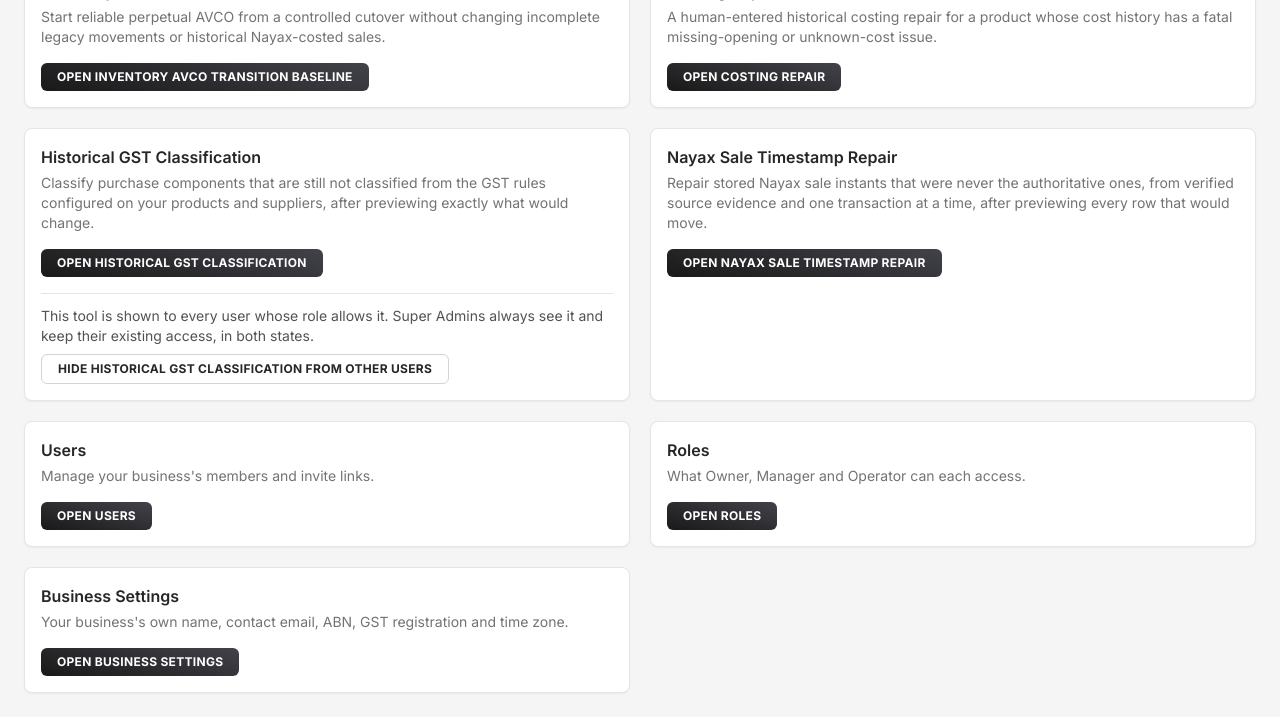
AdminComponent switchable option visibility (issue #873) › the saved answer and the re-read that publishes it › hands the shared answer back over once the re-read carries it
This screenshot has width=1280, height=717.
(page scrolled)
Click the button with id "historical-gst-classification-visibility" at (245, 369), box [41,354,449,384]
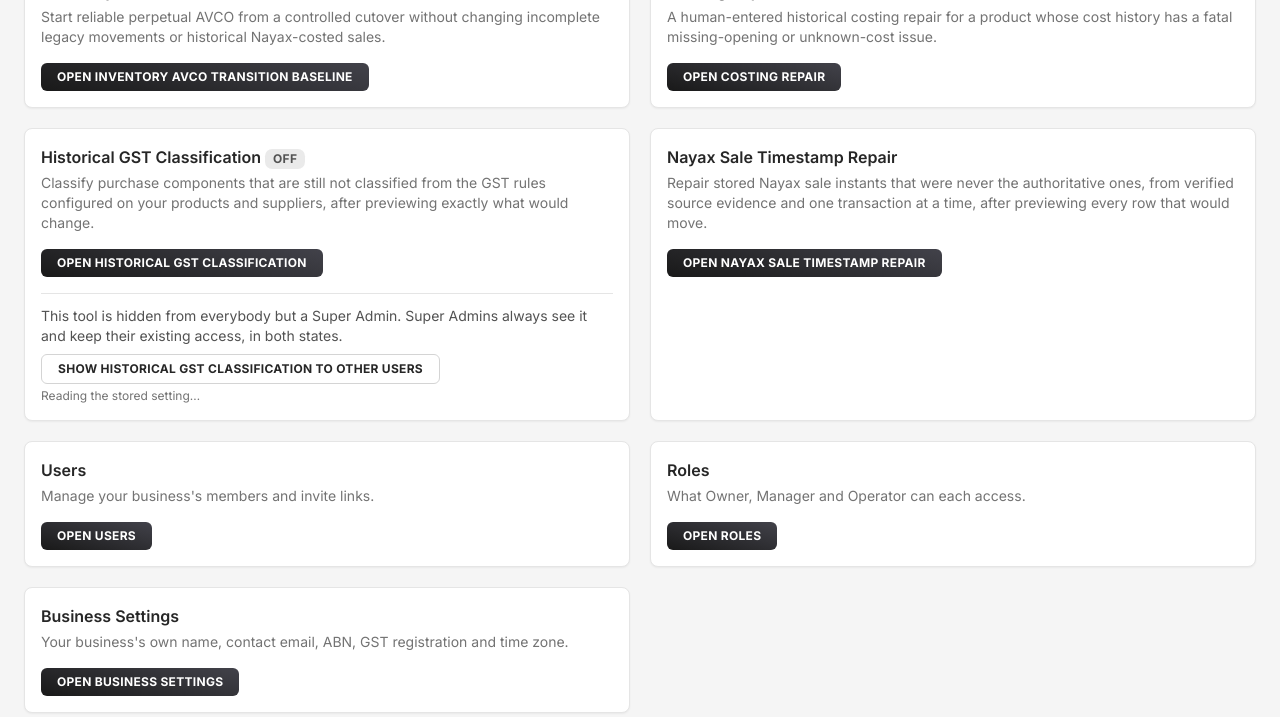
Now the text with class "badge" reads "Off", box [273,151,297,166]
